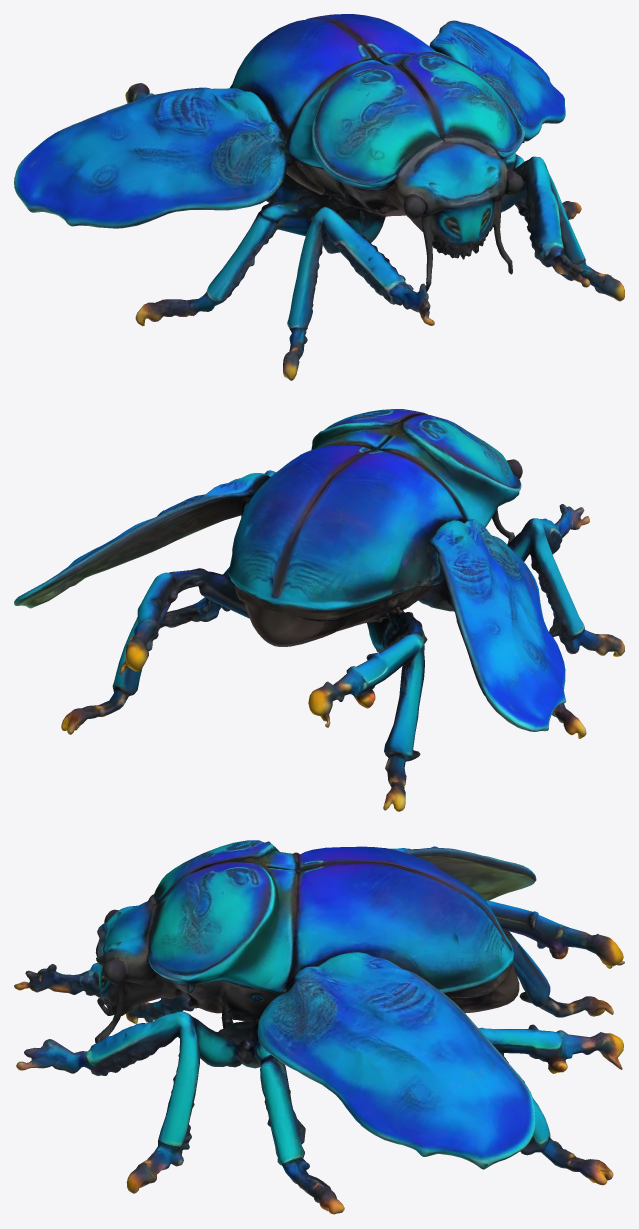
The model's file is apex-criatura-escarabajo.glb.
3 renders of one model, top to bottom at view 1: azimuth 30°, elevation 25°; view 2: azimuth 150°, elevation 25°; view 3: azimuth 270°, elevation 25°, orthographic. The views are drawn at different scales.
Size of the model in its own units: 2 by 0.8683 by 1.92.
Materials: 1 (1 with a texture image).
